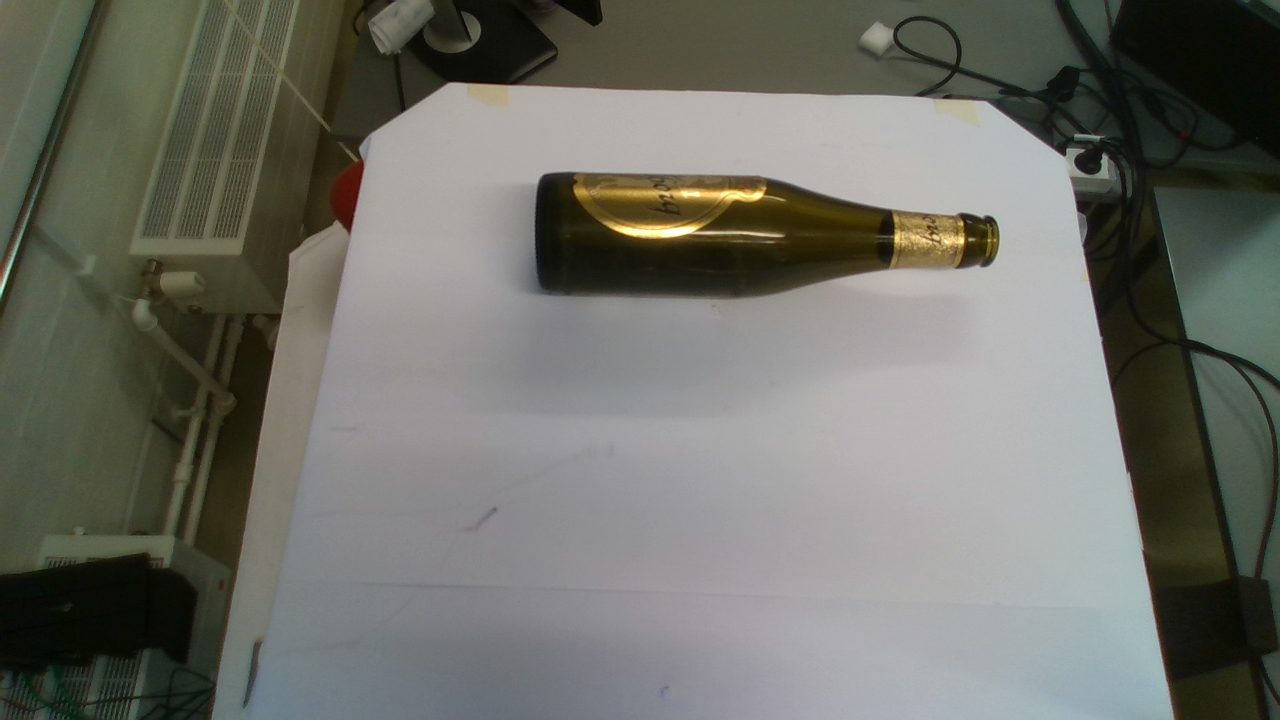bottle: (531, 171, 1000, 300)
